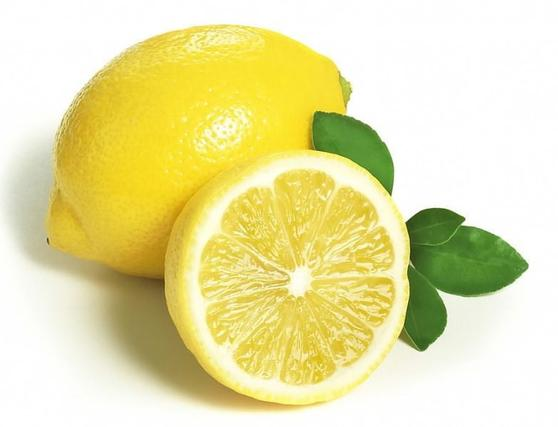lemon: (40, 17, 351, 279)
